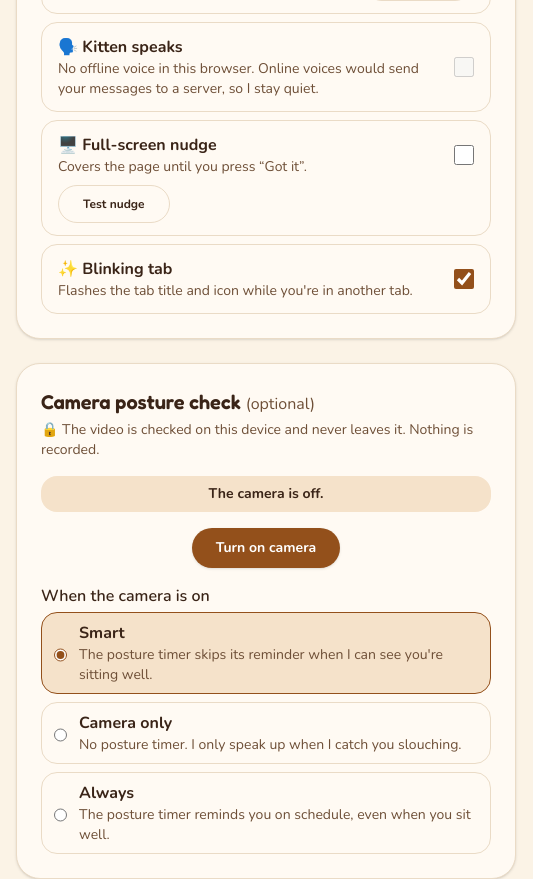
Test case: camera posture check › reports when the camera is disconnected
(page scrolled)
Step 1. Click the button "Turn on camera" → click(266, 548), box [192,528,340,568]
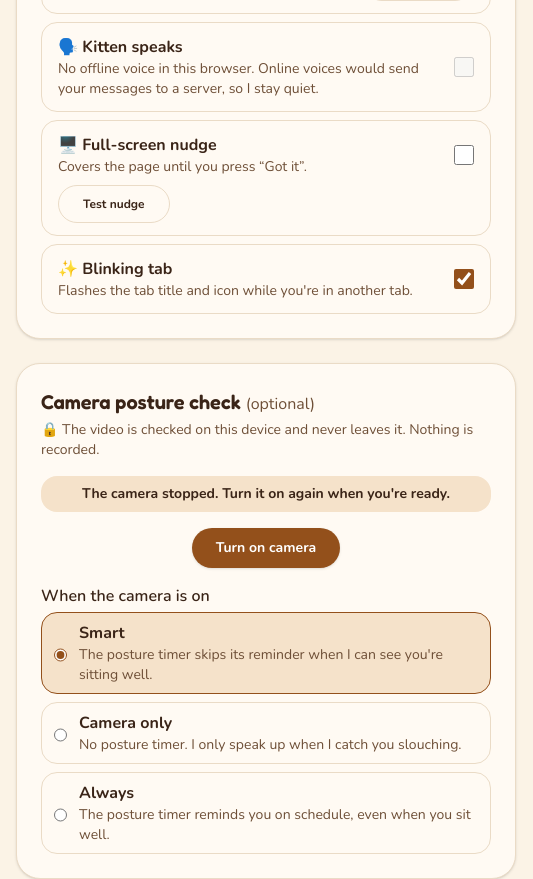
Now the message with test id "camera-status" shows "The camera stopped.", box [82,484,450,503]
